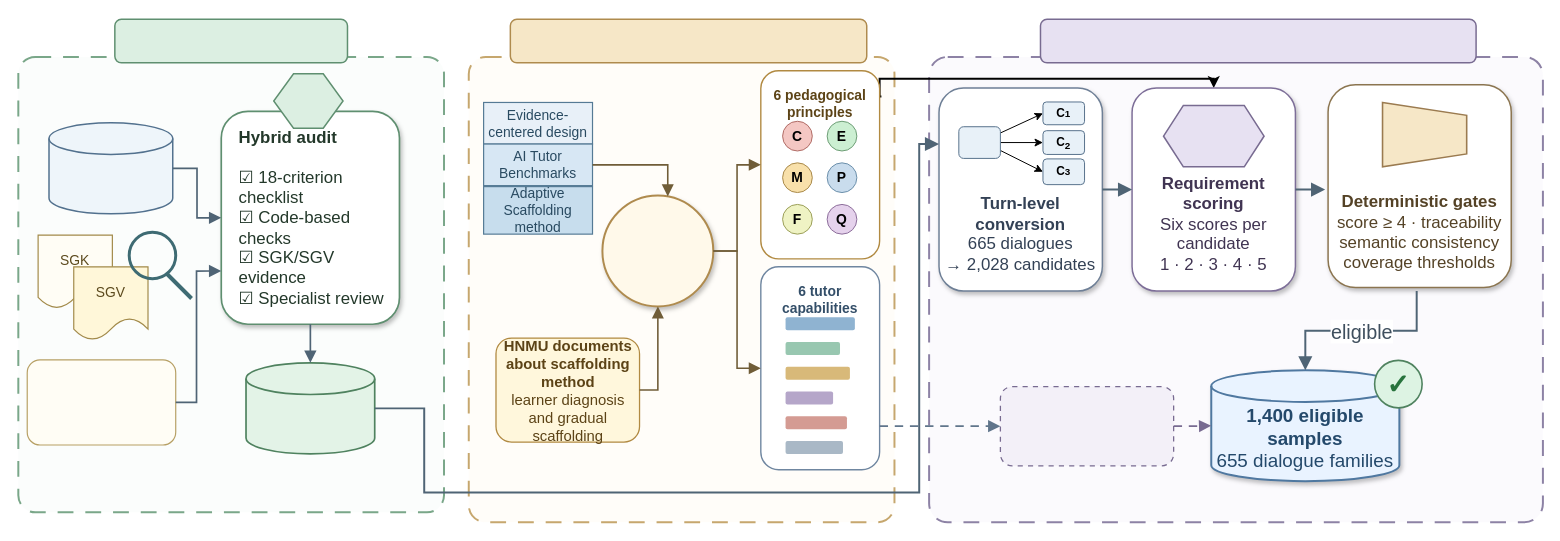
The diagram is 1560 pixels wide and 541 high, and some of its shapes have lost their labels. Each missing label, with the centre of its shape:
1,050 raw dialogues Grades 6–9: point (110, 168)
665 retained dialogue families: point (310, 408)
AI agent: point (308, 101)
CODE: point (1424, 134)
Curriculum grounding 154 SGK/SGV units 2,750 fragments + FTS tool: point (101, 402)
D 1: point (979, 142)
LLM Gemini 3.5: point (1213, 135)
PHASE 1 · DATA AUDIT: point (231, 40)
PHASE 2 · MEASUREMENT FOUNDATION: point (688, 40)
PHASE 3 · BENCHMARK SAMPLE CONSTRUCTION: point (1257, 40)
Rubric foundation 6 capabilities + required principles: point (1086, 426)
SYNTHESIS & boundary analysis: point (658, 252)
